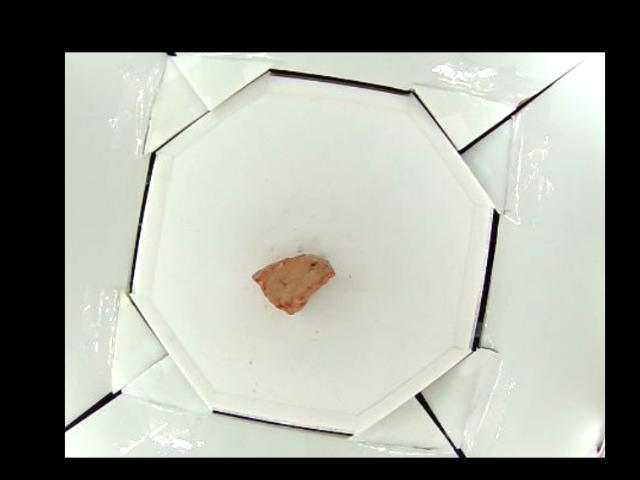Brisk: (249, 253, 334, 314)
